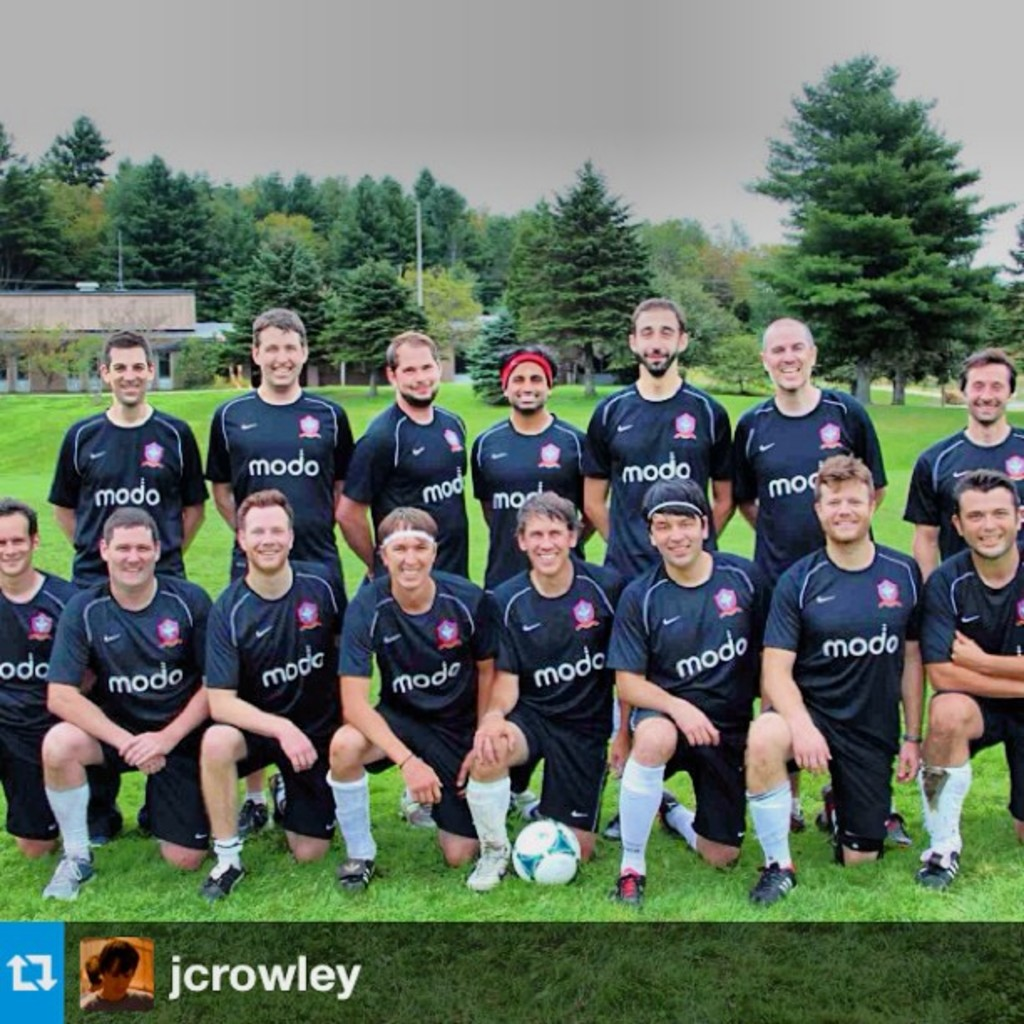Ball: (514, 820, 581, 885)
